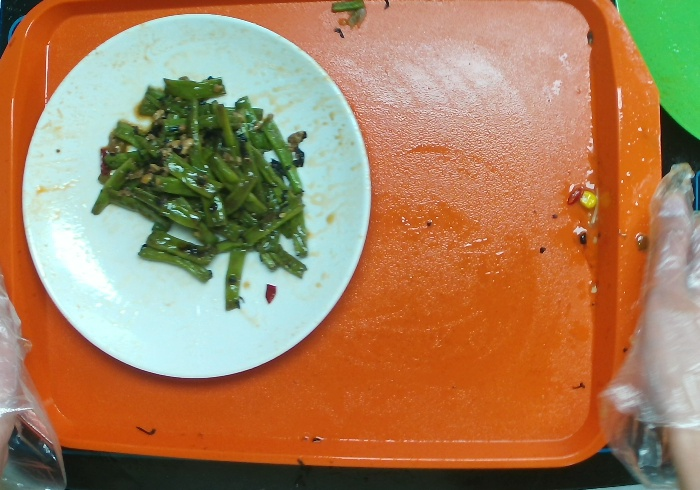HZYJPL-Bai_Se_Yuan_Pan: (19, 12, 373, 379)
